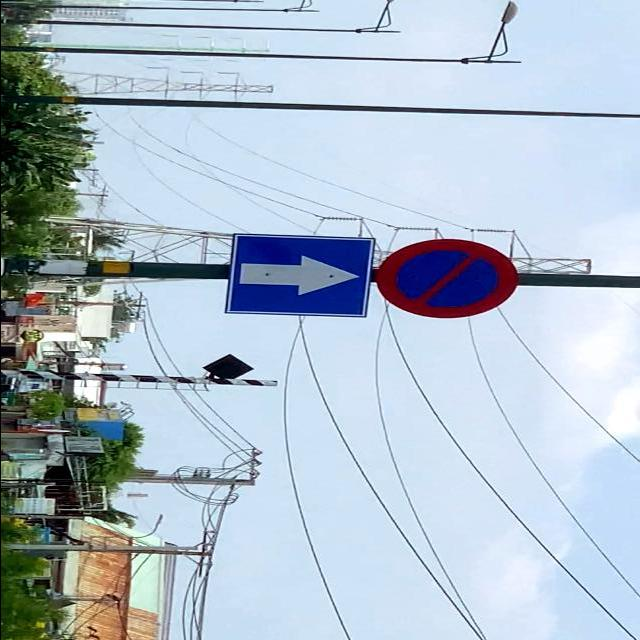I-407a: (226, 236, 370, 316)
P-131a: (372, 238, 521, 320)
